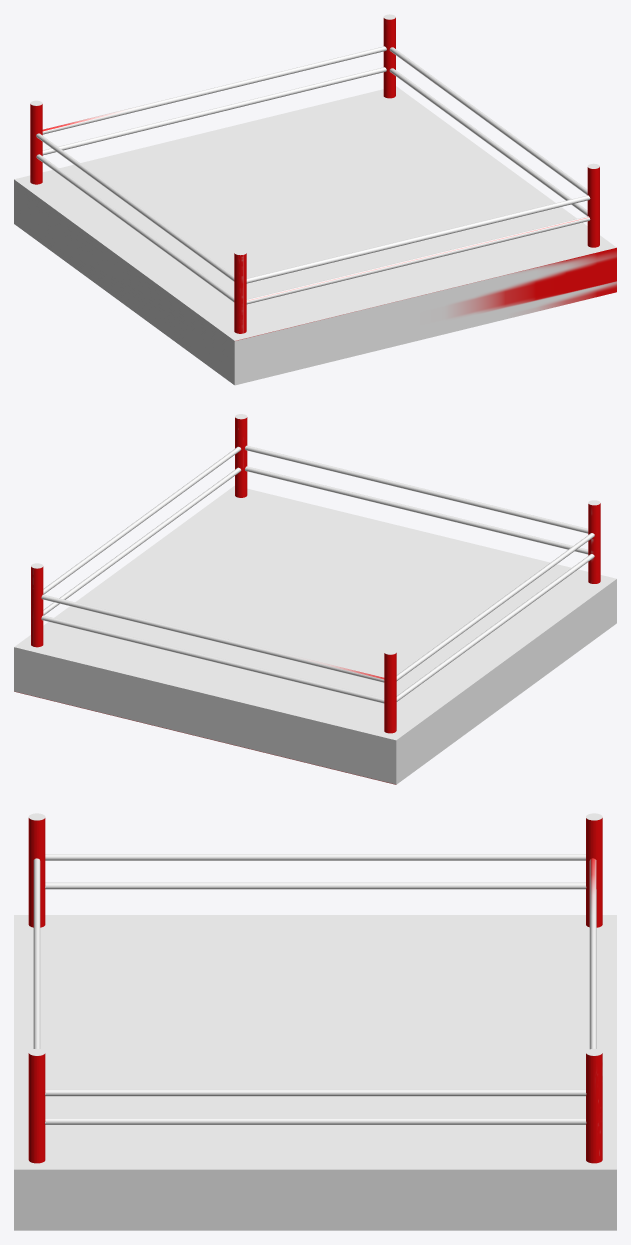
Rendered from ring.obj.
3 views of the same model, one above another, from view 1: azimuth 30°, elevation 25°; view 2: azimuth 150°, elevation 25°; view 3: azimuth 270°, elevation 25° (orthographic). The views are drawn at different scales.
Visible parts, largest first — view 1: 円柱.008_円柱.009; view 2: 円柱.008_円柱.009; view 3: 円柱.008_円柱.009.
Part boxes in pixels (bbox=[...]): 円柱.008_円柱.009: bbox=[14, 14, 616, 385]; 円柱.008_円柱.009: bbox=[14, 414, 616, 784]; 円柱.008_円柱.009: bbox=[14, 813, 616, 1230].
Size of the model in its own units: 17.95 by 5.53 by 17.96.
1 material, 1 textured.
